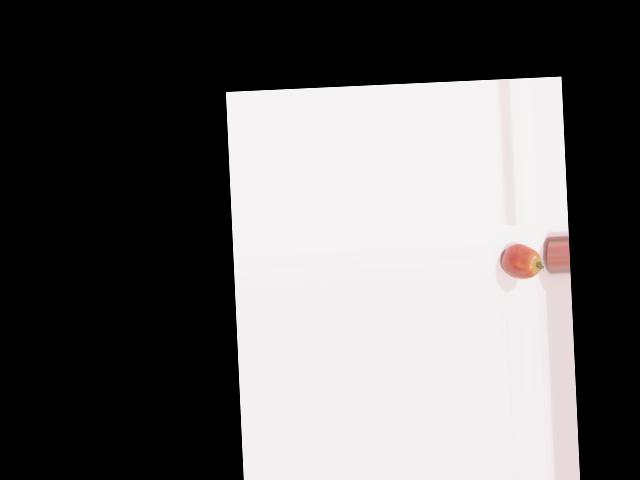tomato: (501, 242, 542, 279)
